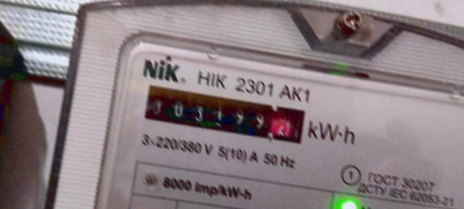0: (149, 95, 163, 115), (172, 98, 184, 117)
1: (214, 101, 224, 121)
3: (193, 103, 203, 122)
6: (275, 122, 286, 138)
9: (253, 112, 264, 130), (234, 106, 244, 125)
screen: (137, 80, 313, 151)
